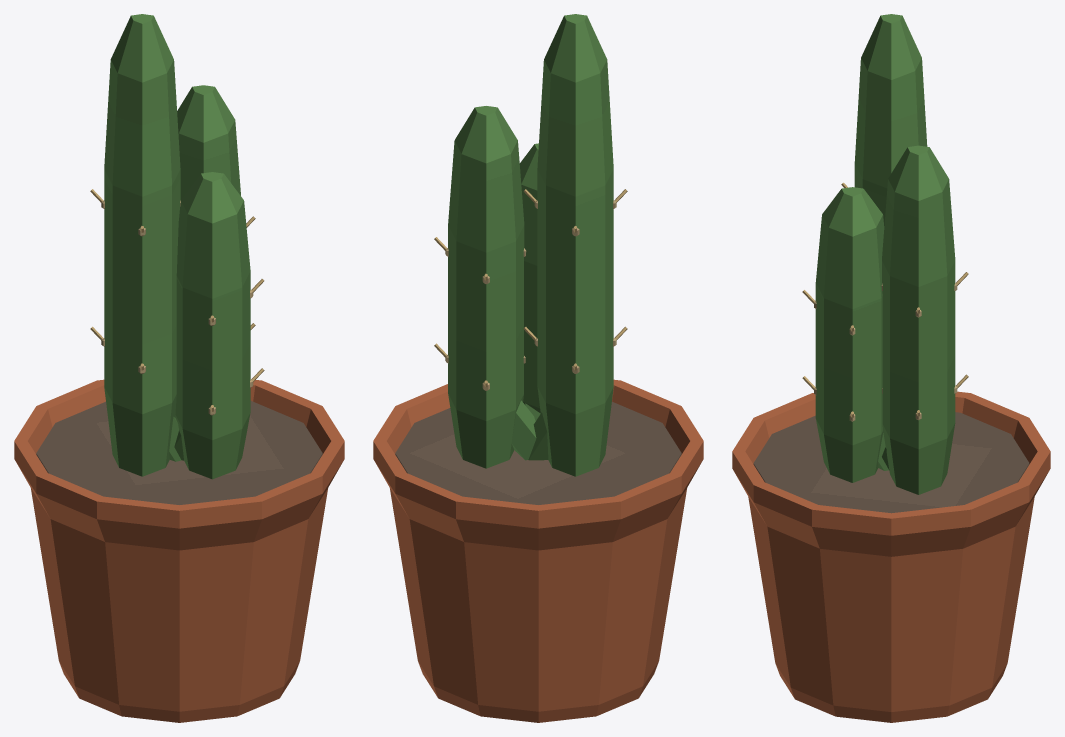
Rendered from column.glb.
The picture shows the model from 3 angles, left to right: view 1: azimuth 30°, elevation 25°; view 2: azimuth 150°, elevation 25°; view 3: azimuth 270°, elevation 25°; orthographic projection. The views are drawn at different scales.
Visible parts, largest first — view 1: column/review-terra-vessel, column/ribbed-stem-001, column/ribbed-stem-029, column/review-rooted-soil, column/ribbed-stem-015; view 2: column/review-terra-vessel, column/ribbed-stem-001, column/ribbed-stem-015, column/review-rooted-soil, column/ribbed-stem-029, column/rooted-joint-016, column/rooted-joint-002; view 3: column/review-terra-vessel, column/ribbed-stem-015, column/ribbed-stem-029, column/review-rooted-soil, column/ribbed-stem-001.
Boxes of the visible parts, x1,y1,x2,y2 form: column/review-terra-vessel: (14,379,344,722); column/ribbed-stem-001: (104,14,180,476); column/ribbed-stem-029: (175,172,250,479); column/review-rooted-soil: (36,401,322,504); column/ribbed-stem-015: (177,85,240,199); column/review-terra-vessel: (373,379,703,722); column/ribbed-stem-001: (537,14,613,476); column/ribbed-stem-015: (448,106,524,468); column/review-rooted-soil: (395,401,681,504); column/ribbed-stem-029: (519,143,540,413); column/rooted-joint-016: (511,400,536,460); column/rooted-joint-002: (528,412,548,460); column/review-terra-vessel: (732,391,1050,722); column/ribbed-stem-015: (882,145,955,494); column/ribbed-stem-029: (815,187,884,482); column/review-rooted-soil: (753,412,1029,513); column/ribbed-stem-001: (854,14,927,225).
Bounding box in the file's own units: 0.27 × 0.599 × 0.27.
Materials: 5 (5 with a texture image).
